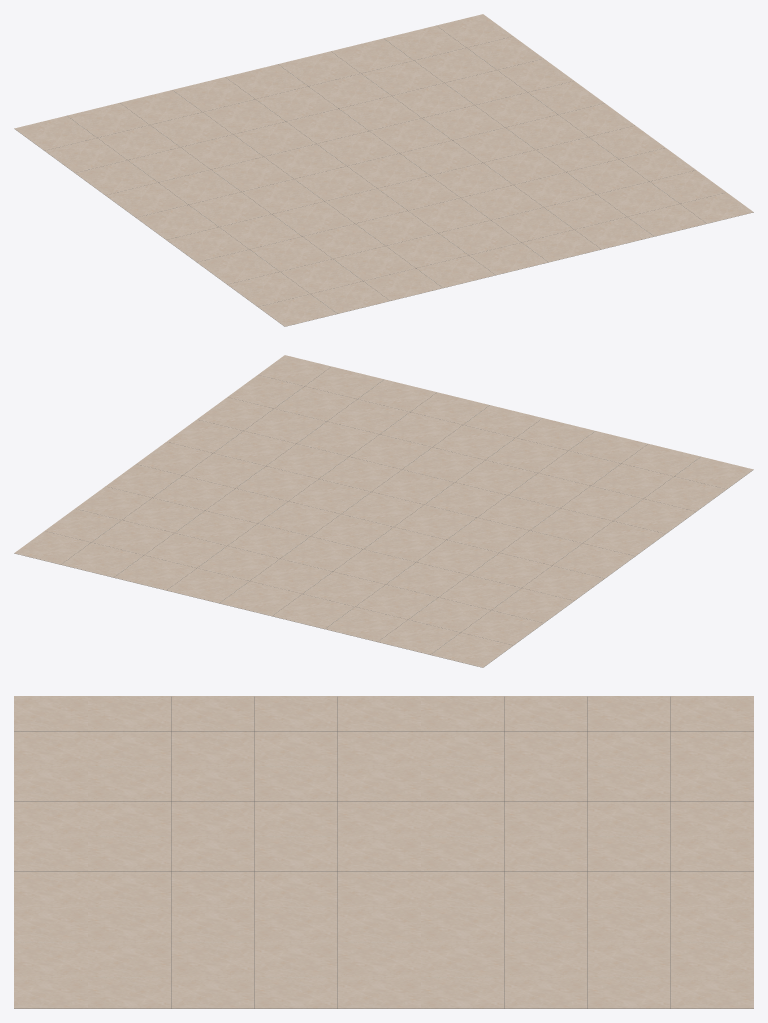
File: premium-sand-90x90.glb
3 views of the same model, one above another, from view 1: azimuth 30°, elevation 25°; view 2: azimuth 150°, elevation 25°; view 3: azimuth 270°, elevation 25° (orthographic). The views are drawn at different scales.
Visible parts, largest first — view 1: Premium Sand; view 2: Premium Sand; view 3: Premium Sand.
Part boxes in pixels (x1=…): Premium Sand: x1=14, y1=14, x2=753, y2=326; Premium Sand: x1=14, y1=355, x2=753, y2=667; Premium Sand: x1=14, y1=696, x2=753, y2=1008.
Bounding box in the file's own units: 8 × 0.003 × 8.
Materials: 2 (1 with a texture image).
